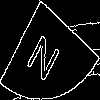N: (25, 25, 66, 84)
